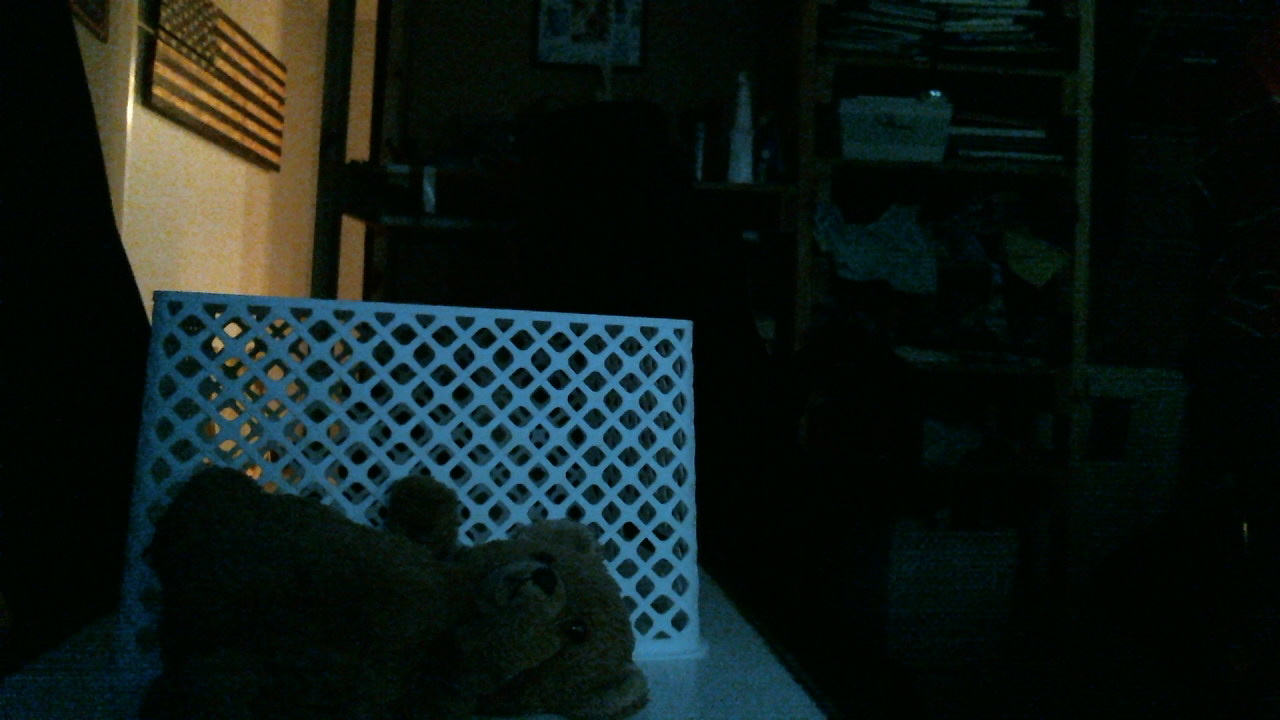Little_Mister_Bear: (488, 548, 599, 657)
